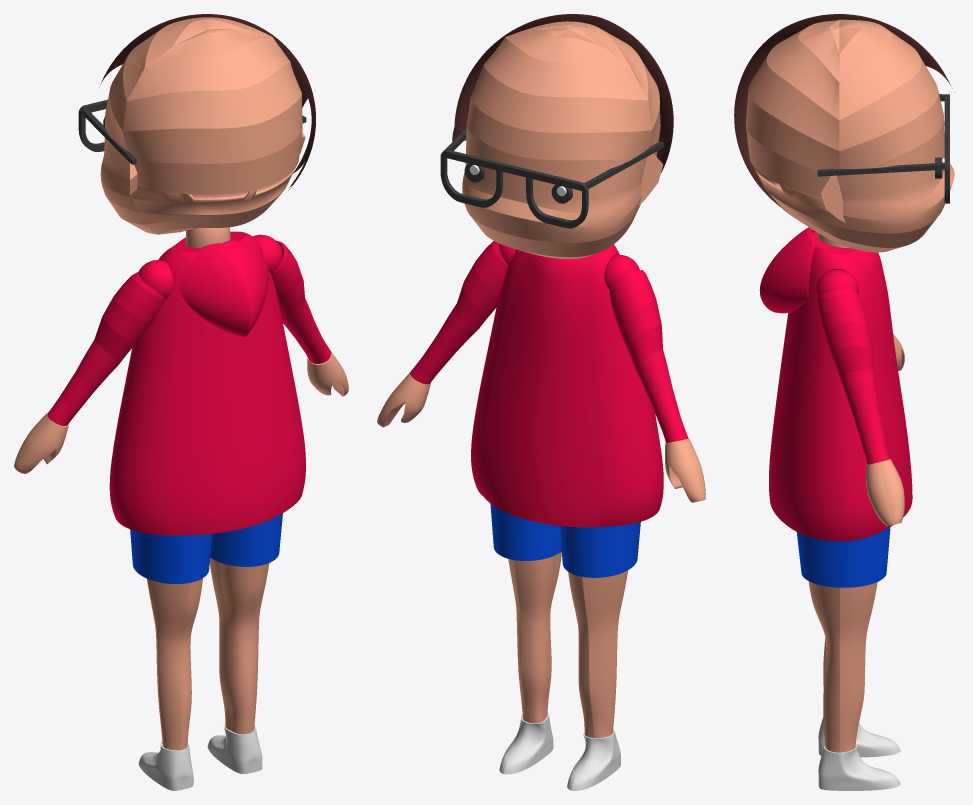
Rendered from Rain_Normal.fbx.
3 renders of one model, left to right at view 1: azimuth 30°, elevation 25°; view 2: azimuth 150°, elevation 25°; view 3: azimuth 270°, elevation 25°, orthographic.
Parts seen in each view (by area): view 1: Sweater, Body Up, Body, Shorts, Socks, Hair, Eyes; view 2: Sweater, Body Up, Body, Shorts, Eyes, Socks, Hair; view 3: Body Up, Sweater, Body, Shorts, Socks, Hair, Eyes.
Boxes of the visible parts, left/top/right/bottom form: Sweater: left=47, top=231, right=331, bottom=535; Body Up: left=14, top=17, right=348, bottom=473; Body: left=147, top=558, right=269, bottom=750; Shorts: left=130, top=513, right=282, bottom=583; Socks: left=138, top=725, right=262, bottom=790; Hair: left=99, top=14, right=315, bottom=190; Eyes: left=78, top=99, right=306, bottom=164; Sweater: left=409, top=241, right=688, bottom=527; Body Up: left=377, top=21, right=705, bottom=502; Body: left=508, top=552, right=627, bottom=738; Shorts: left=490, top=503, right=640, bottom=577; Eyes: left=440, top=128, right=663, bottom=228; Socks: left=499, top=713, right=620, bottom=790; Hair: left=452, top=14, right=673, bottom=172; Body Up: left=745, top=19, right=954, bottom=526; Sweater: left=759, top=227, right=912, bottom=541; Body: left=808, top=581, right=877, bottom=752; Shorts: left=796, top=527, right=890, bottom=587; Socks: left=818, top=717, right=900, bottom=790; Hair: left=734, top=14, right=954, bottom=211; Eyes: left=817, top=94, right=949, bottom=203.
Size of the model in its own units: 2.97 by 6.39 by 1.75.
